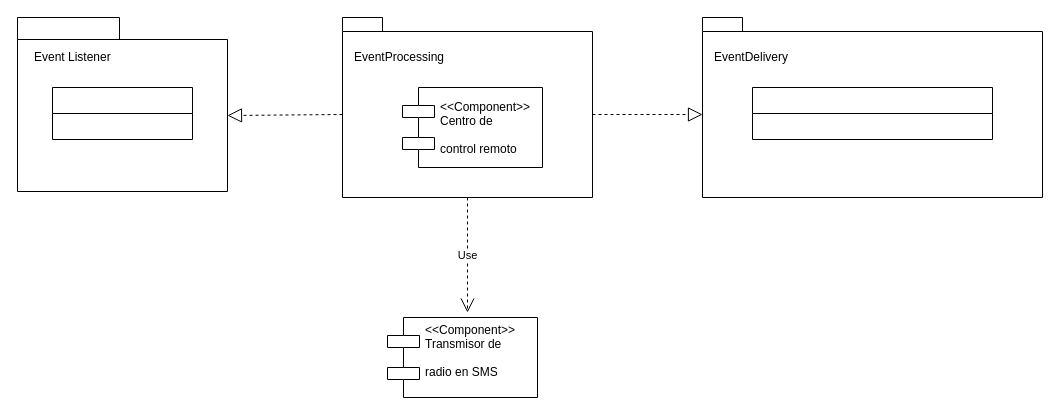
Image size: 1060x415. Some labels were removed from this diagram. Here are the shapes that lost their labels. From the top down, the centre of each, then its label:
At pixel 122 113: "DetectoresGeograficos".
At pixel 872 113: "Sistema de asignación de emergencias".
